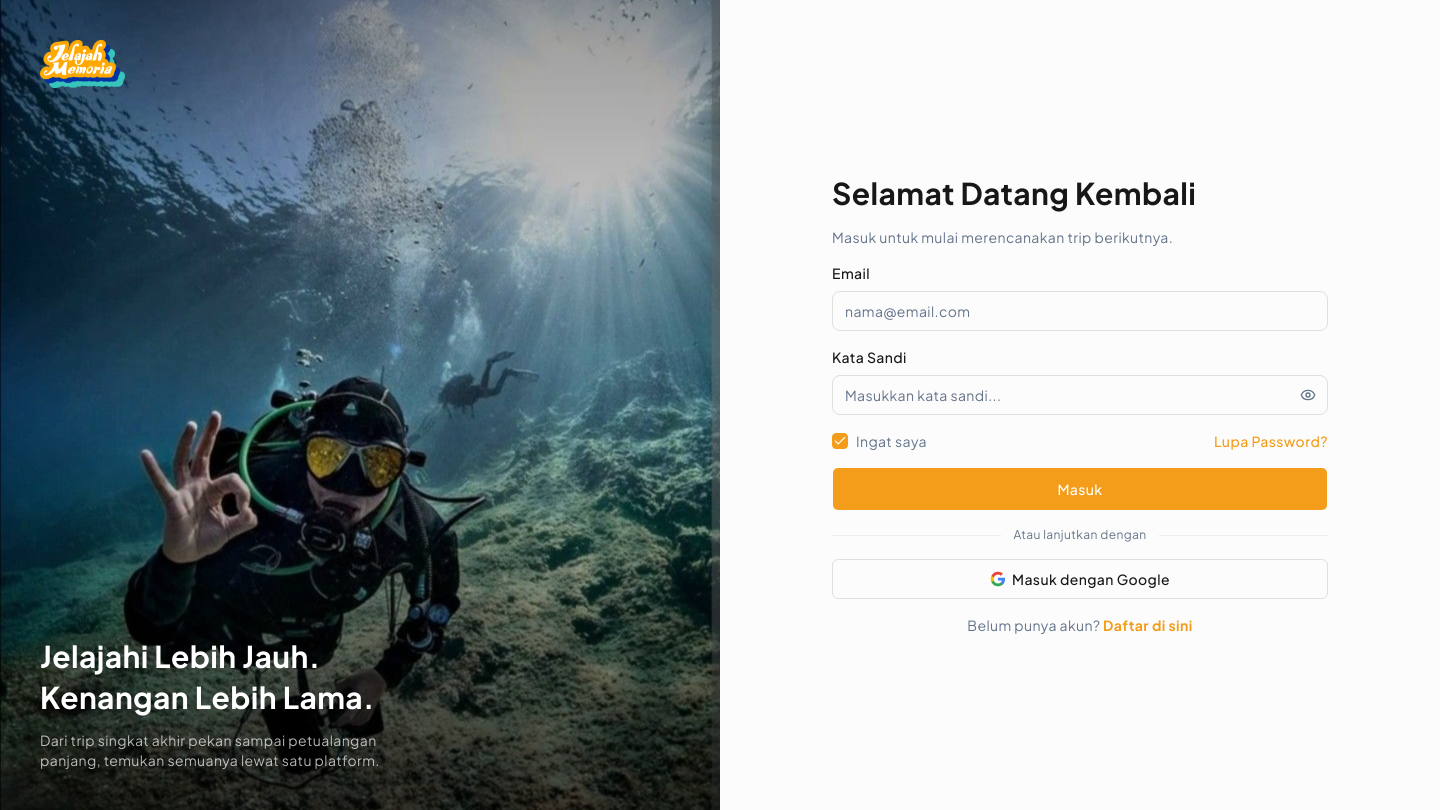
Scenario: LoginForm validasi › menampilkan pesan server saat login gagal
The width and height of the screenshot is (1440, 810).
Type "budi@example.com" into the field labelled "Email". click: [1080, 311]
box: [832,291,1328,331]
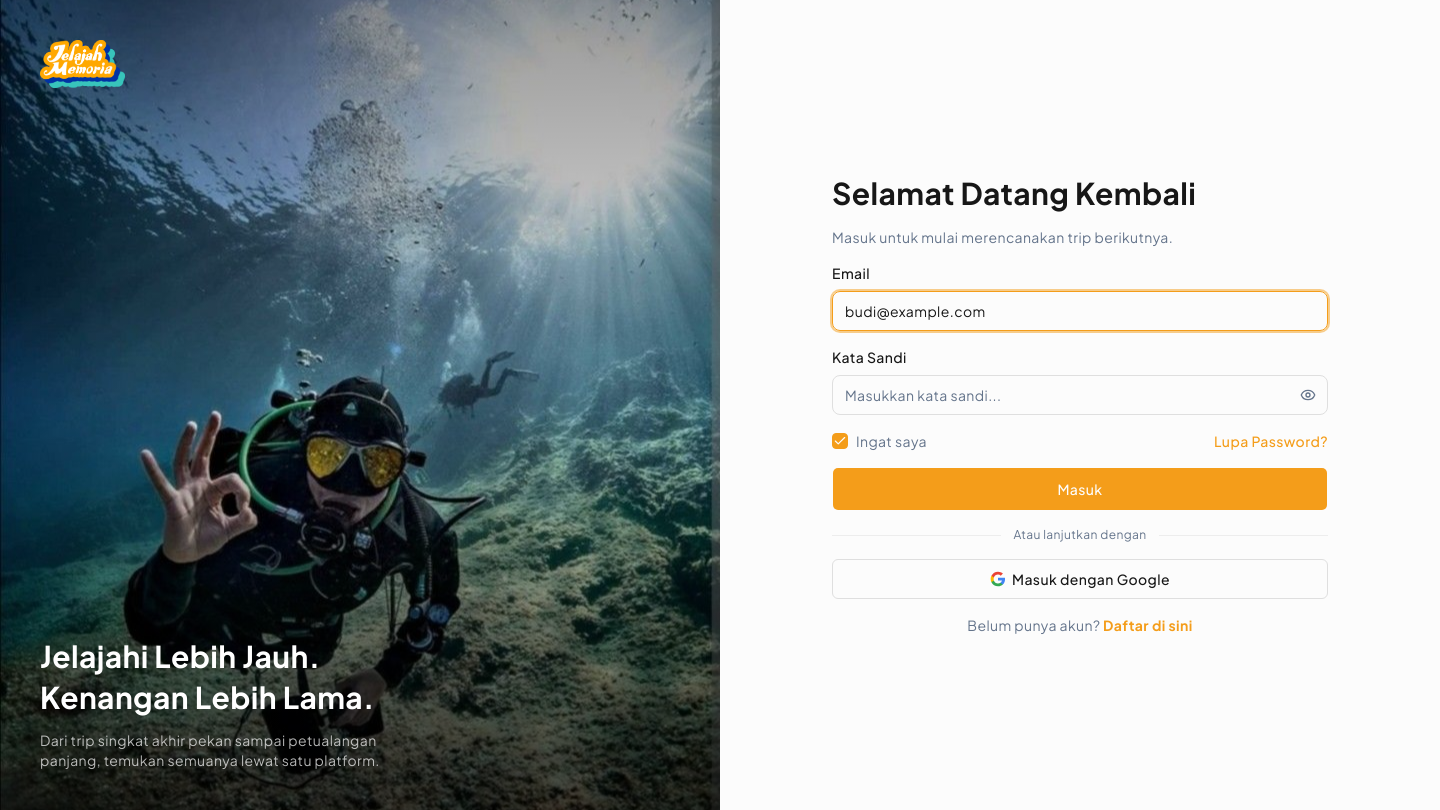
Type "salah" into the password field labelled "Kata Sandi". click: [1080, 395]
box: [832,375,1328,415]
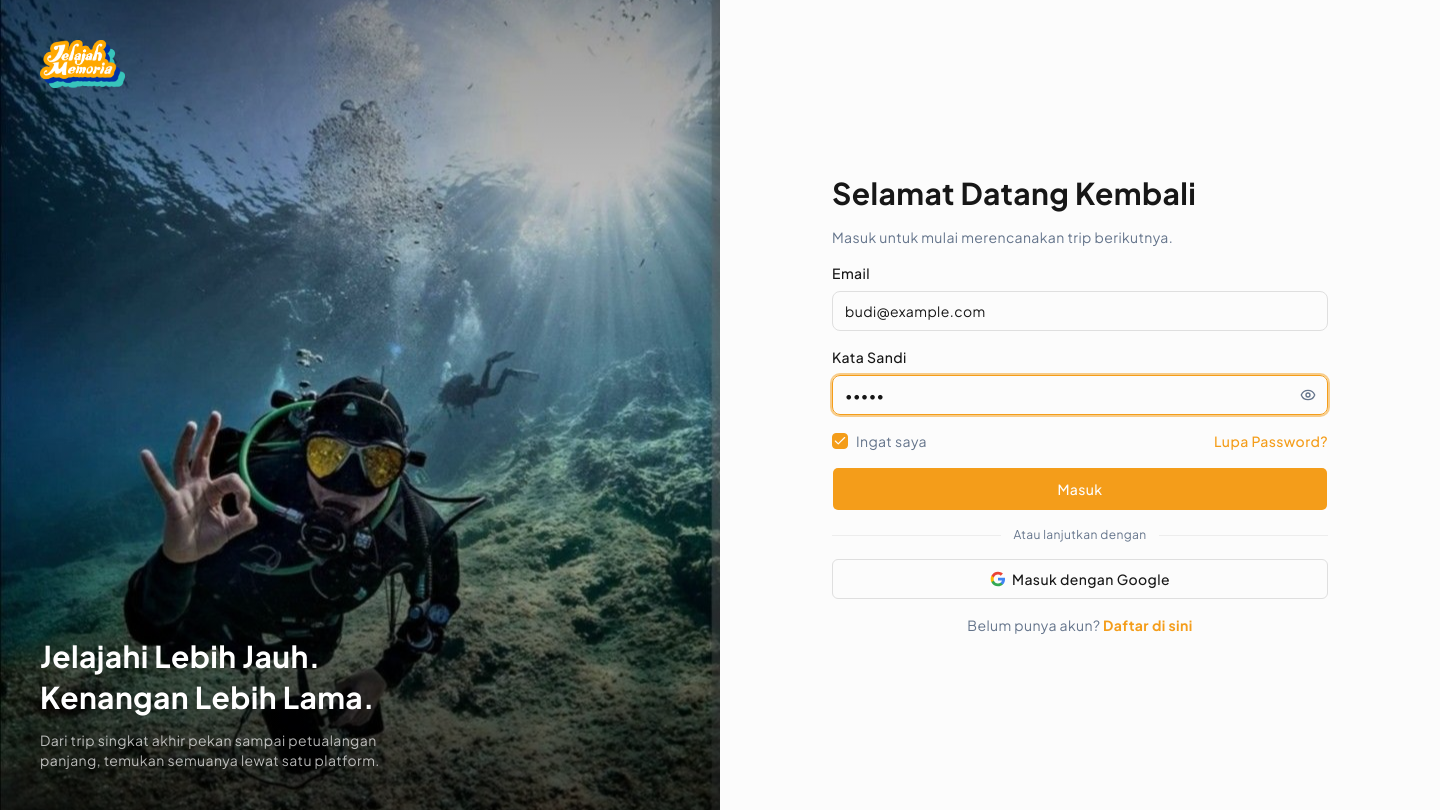
Click the button "Masuk". click: [1080, 489]
box: [832,467,1328,511]
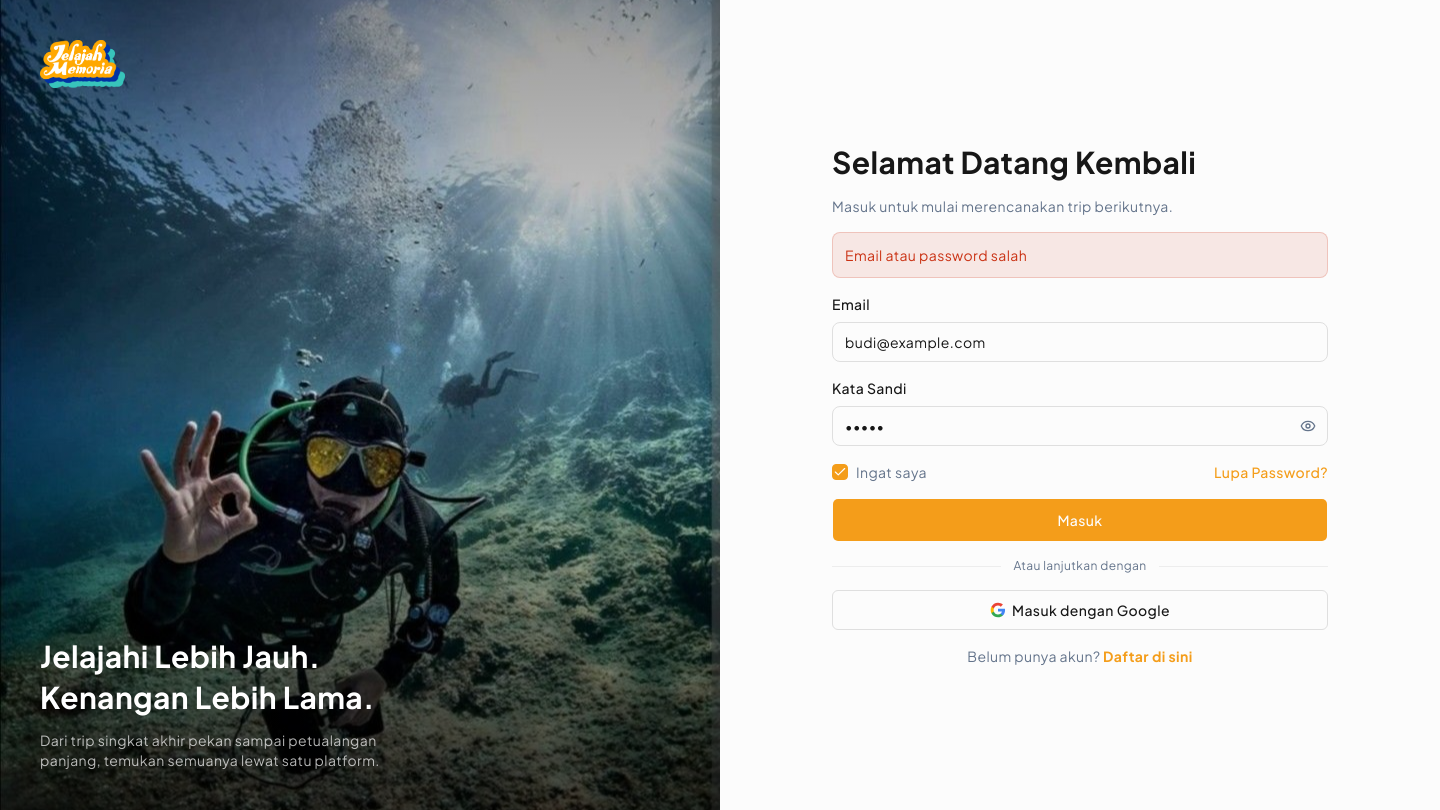
Expected: the text "Email atau password salah" is shown, [832,232,1328,278]
